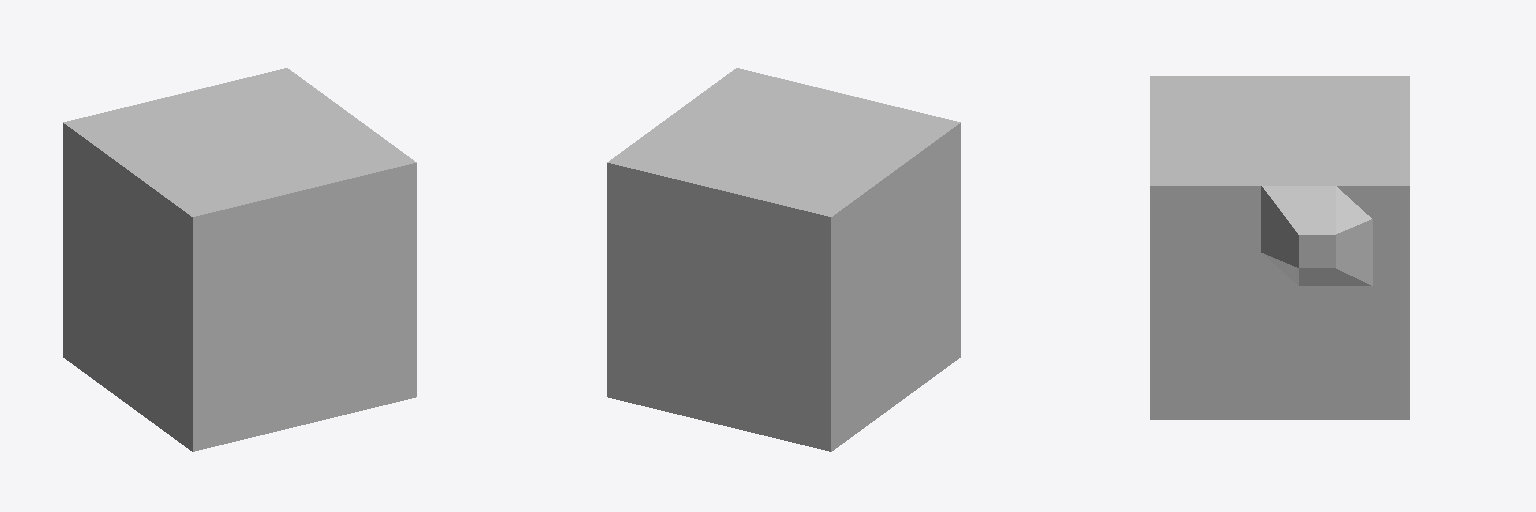
Rendered from rawr.obj.
3 views of the same model, side by side, from view 1: azimuth 30°, elevation 25°; view 2: azimuth 150°, elevation 25°; view 3: azimuth 270°, elevation 25° (orthographic).
Size of the model in its own units: 2.29 by 2 by 2.